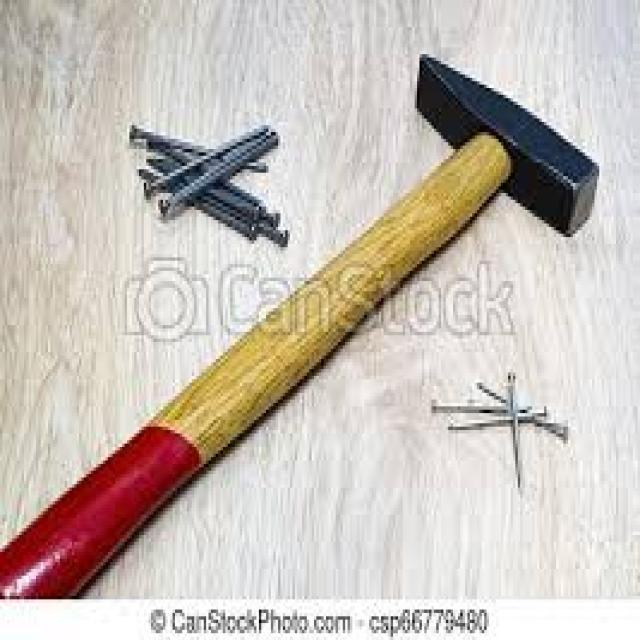hammer: (67, 17, 640, 403)
